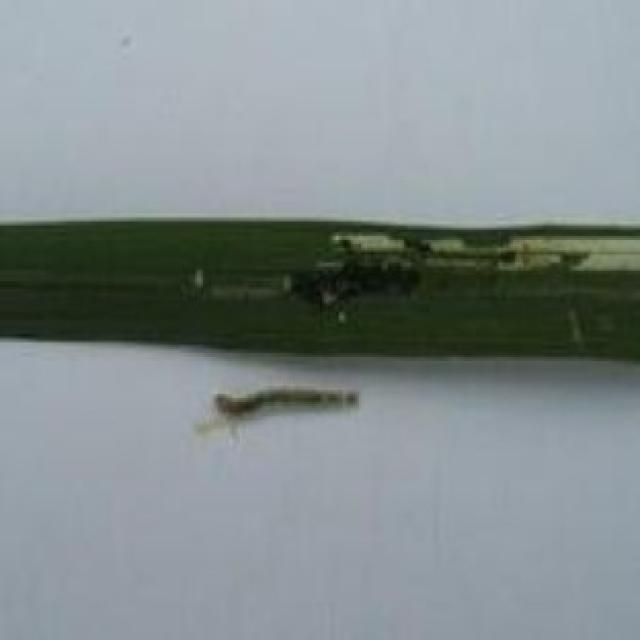rice leaf roller: (181, 230, 638, 353), (195, 386, 357, 431)
